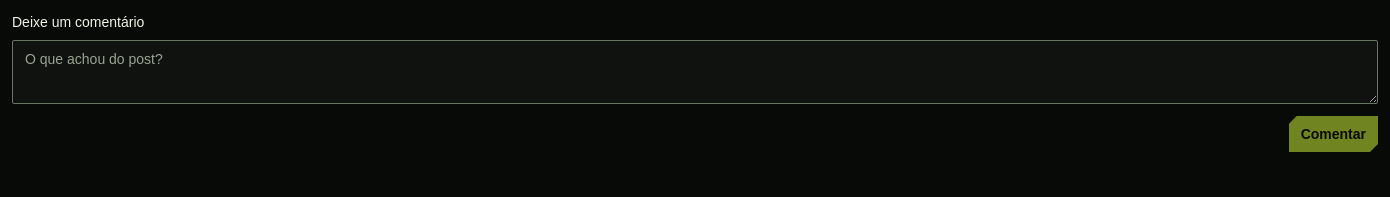
<CommentForm /> › botão desabilitado com texto vazio e mostra erro do servidor
Expected: the button "Comentar" is disabled, [1289, 116, 1378, 152]
Type "oi" into the text box labelled "Deixe um comentário" at point(695, 72), box [12, 40, 1378, 104]
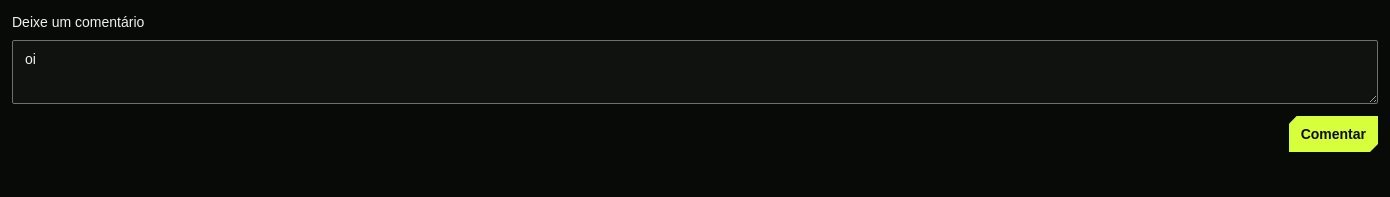
Click the button "Comentar" at point(1333, 134), box [1289, 116, 1378, 152]
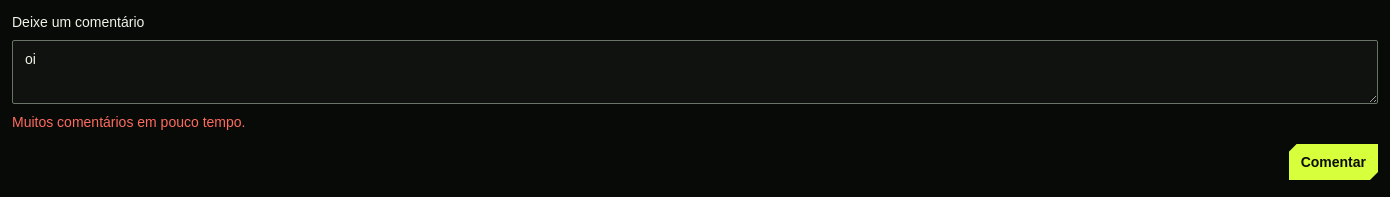
Expected: the message shows "Muitos comentários", [12, 114, 246, 130]
